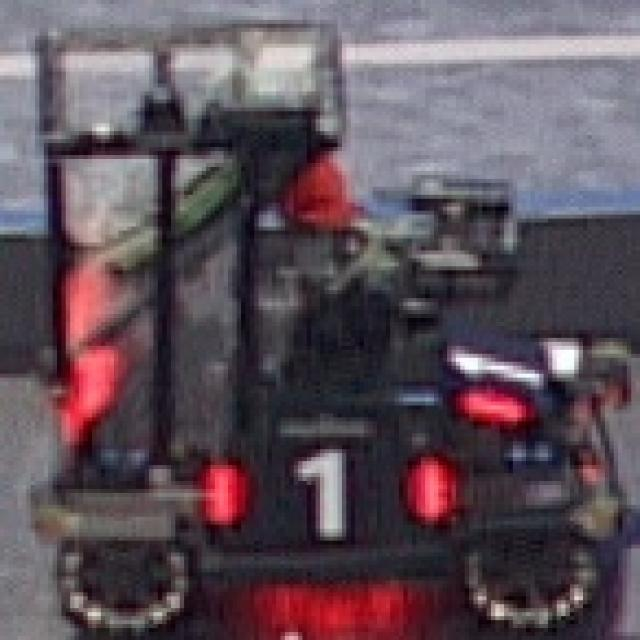R1: (198, 445, 452, 537), (430, 314, 552, 429)
